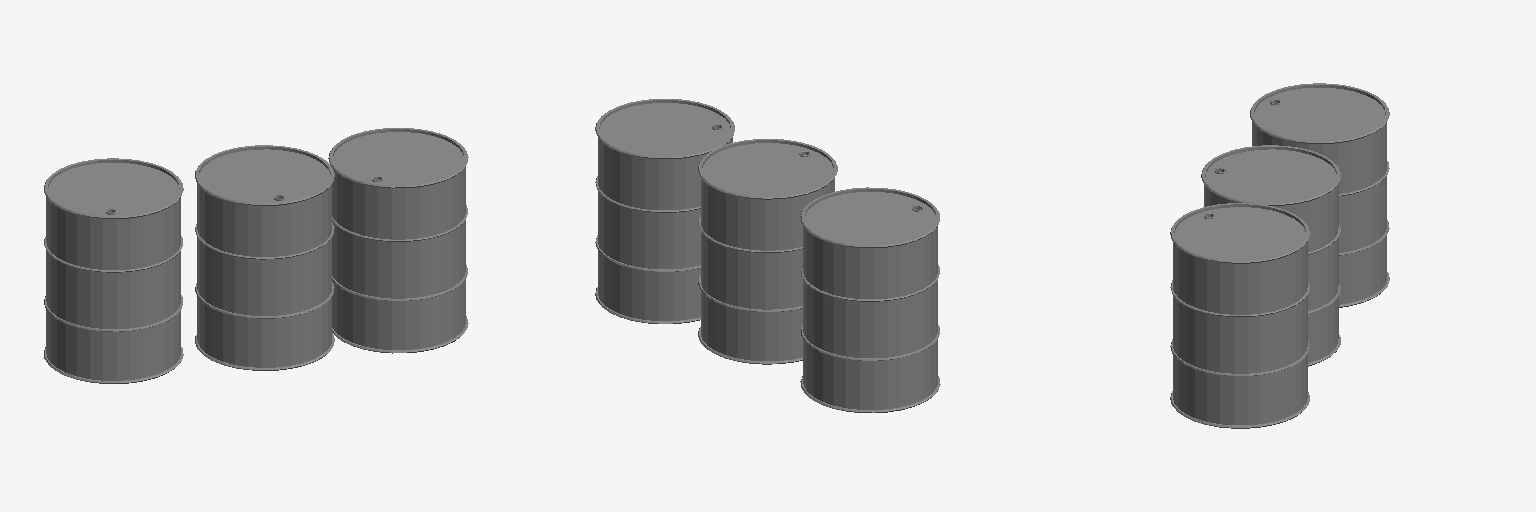
Rendered from barrels.obj.
3 renders of one model, left to right at view 1: azimuth 30°, elevation 25°; view 2: azimuth 150°, elevation 25°; view 3: azimuth 270°, elevation 25°, orthographic.
Visible parts, largest first — view 1: drum2, drum3, drum1; view 2: drum3, drum2, drum1; view 3: drum1, drum3, drum2.
Part boxes in pixels (left/top/right/bottom): drum2: left=195, top=145, right=334, bottom=370; drum3: left=44, top=158, right=183, bottom=383; drum1: left=328, top=128, right=468, bottom=353; drum3: left=800, top=187, right=940, bottom=412; drum2: left=698, top=139, right=837, bottom=364; drum1: left=595, top=99, right=734, bottom=323; drum1: left=1170, top=203, right=1309, bottom=428; drum3: left=1250, top=83, right=1389, bottom=307; drum2: left=1201, top=145, right=1340, bottom=366.
Size of the model in its own units: 170 by 74.51 by 88.55.